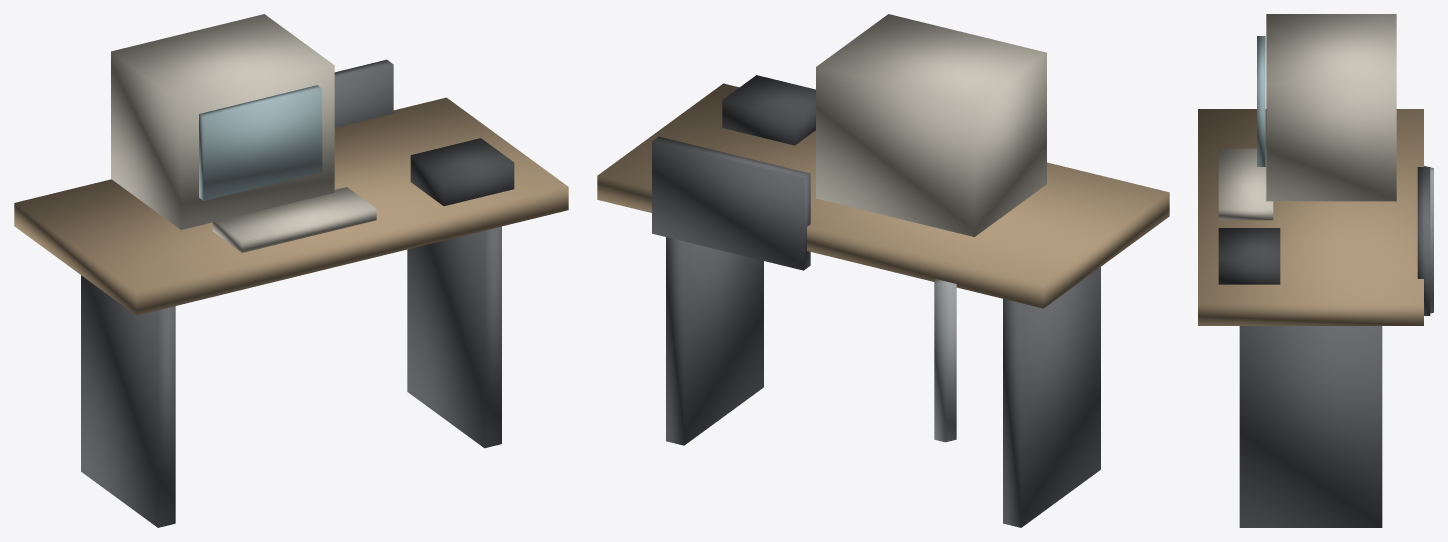
Rendered from crt_workstation__service.glb.
The picture shows the model from 3 angles, left to right: view 1: azimuth 30°, elevation 25°; view 2: azimuth 150°, elevation 25°; view 3: azimuth 270°, elevation 25°; orthographic projection. The views are drawn at different scales.
Visible parts, largest first — view 1: world; view 2: world; view 3: world.
Boxes of the visible parts, x1,y1,x2,y2 form: world: (14, 14, 568, 527); world: (597, 14, 1169, 527); world: (1198, 14, 1433, 527).
Size of the model in its own units: 1.35 by 1.21 by 0.6892.
